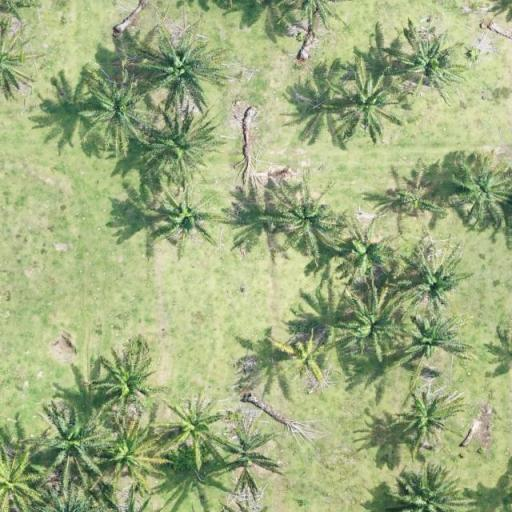Ganoderma: (158, 198, 212, 242), (106, 433, 152, 474), (406, 41, 450, 83), (285, 340, 324, 379), (410, 400, 448, 438), (397, 185, 432, 214)
